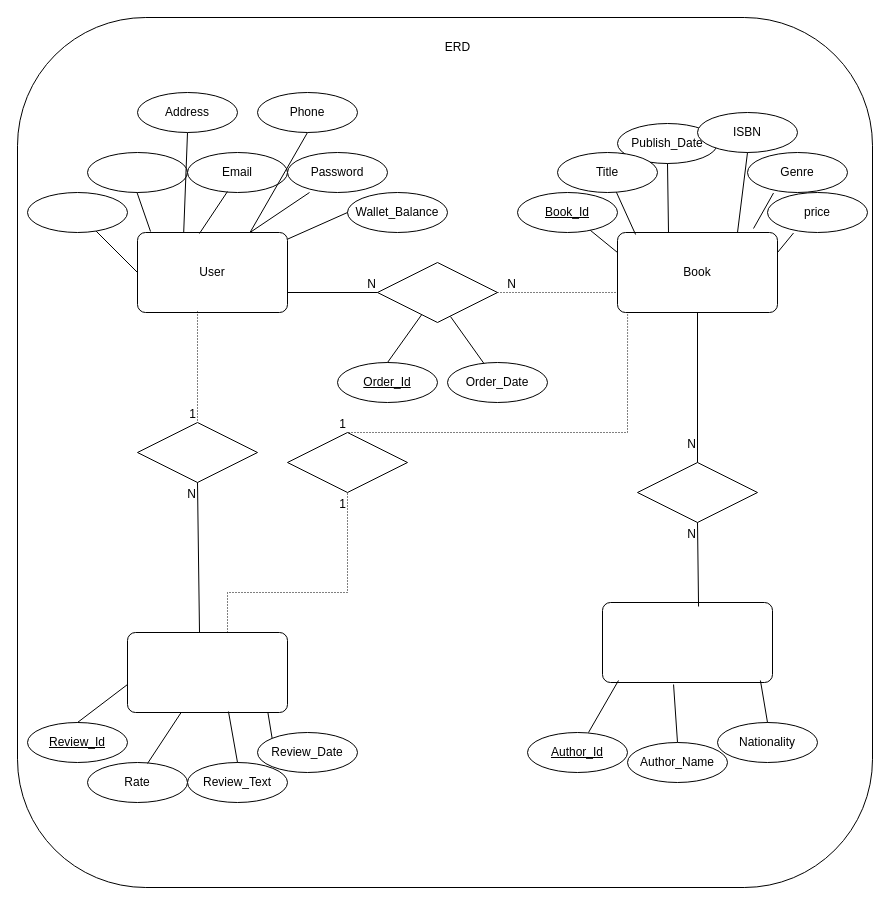
Some shapes in this 890 by 905 pixel diagram are drawn without their labels. Here are the shapes that lost their labels. From the top down, the centre of each, then its label:
At pixel 137 172: "User_Name".
At pixel 77 212: "User_Id".
At pixel 437 292: "Order".
At pixel 197 452: "Write".
At pixel 347 462: "Has".
At pixel 697 492: "WrittenBy".
At pixel 687 642: "Author".
At pixel 207 672: "Reviews".
